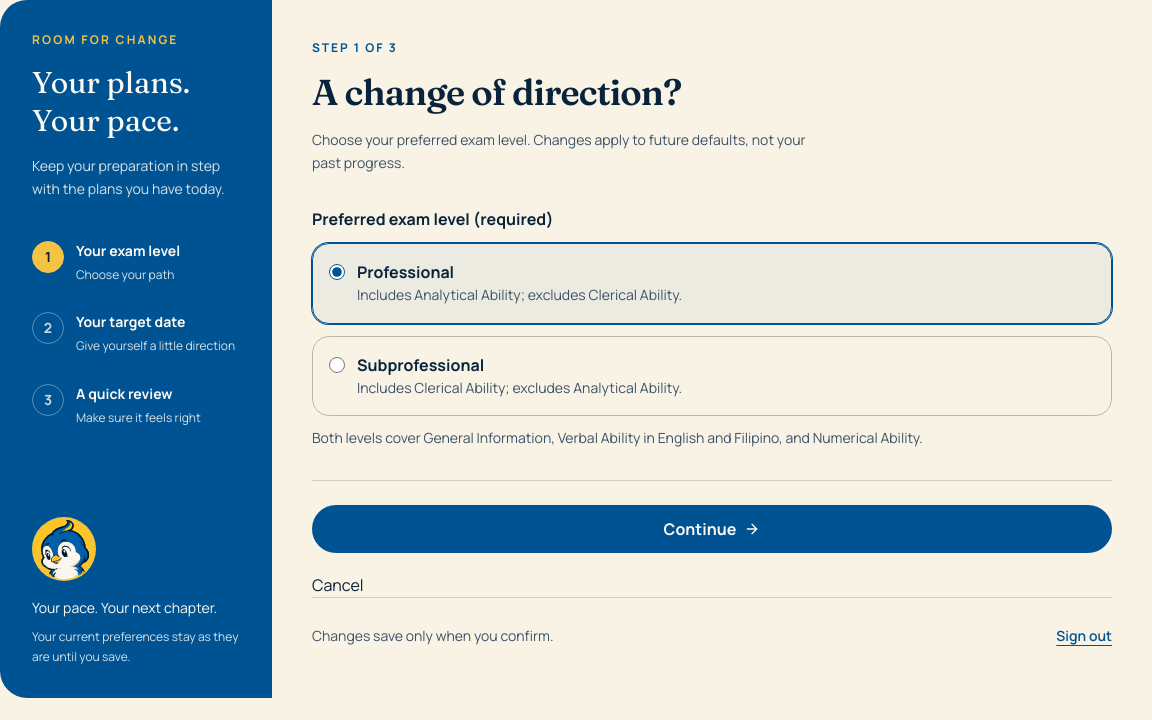
preparation form › discards an editing draft on Cancel even if Next retains the hidden route
Click the 2nd radio button: (337, 365) [329, 357, 345, 373]
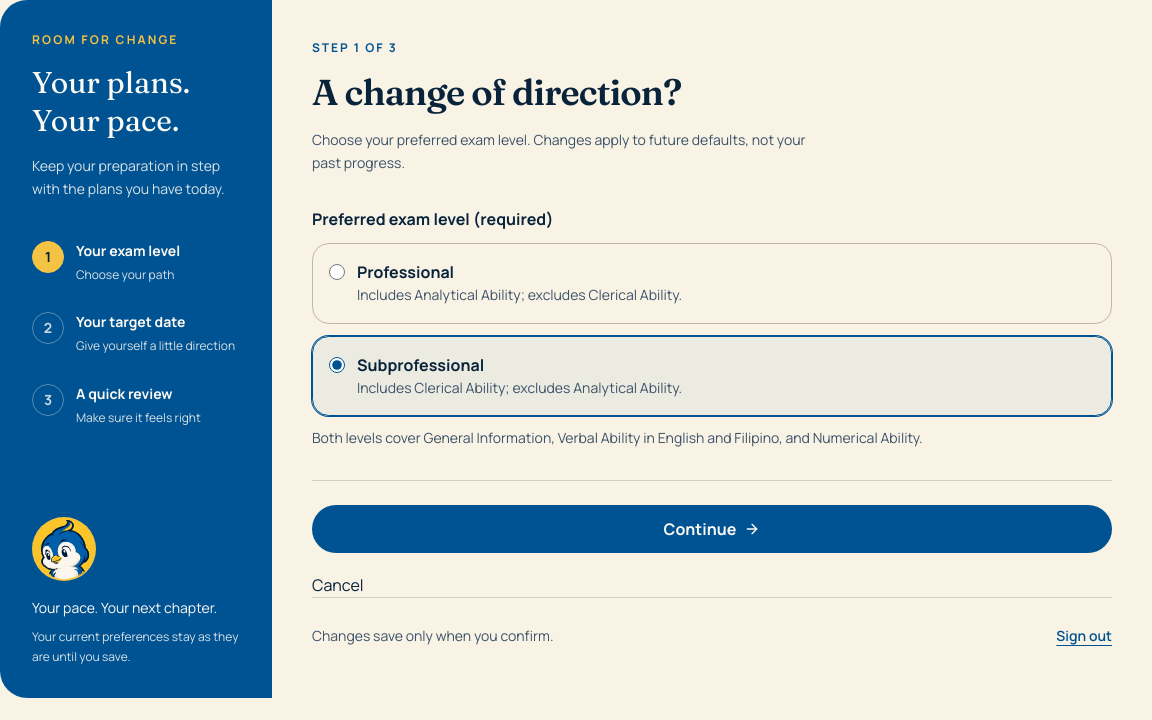
Submit the form
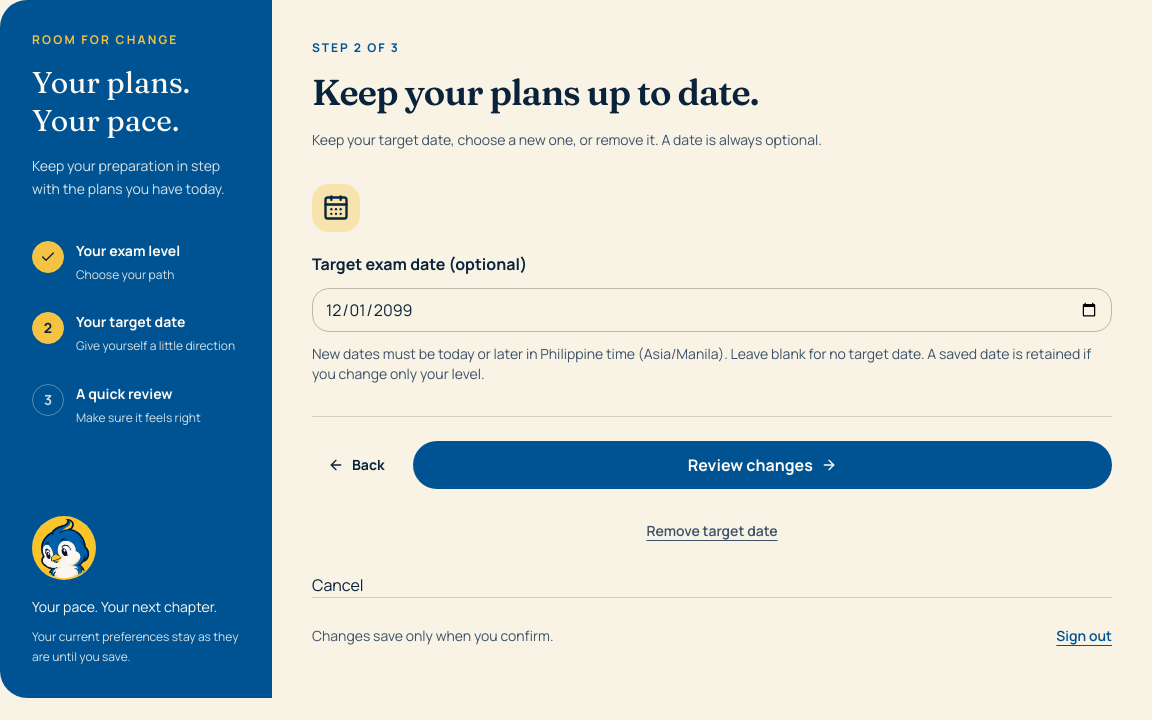
Submit the form
(page scrolled)
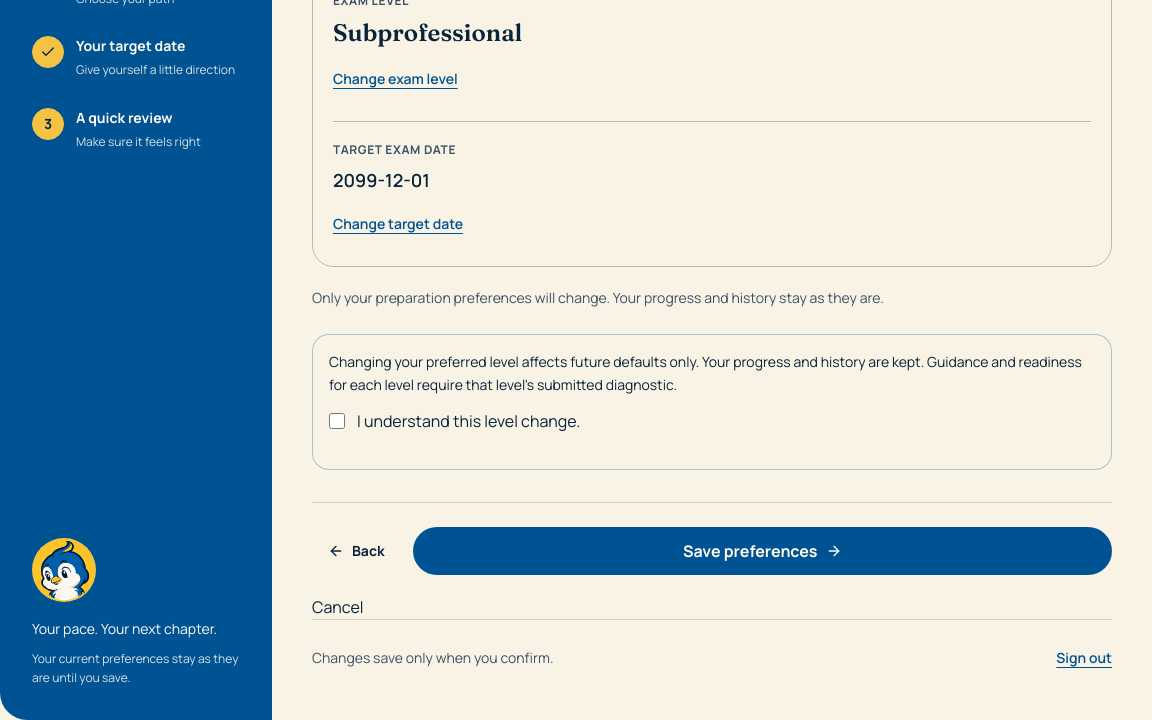
Click the link "Cancel": (338, 606) [312, 596, 364, 618]
(page scrolled)
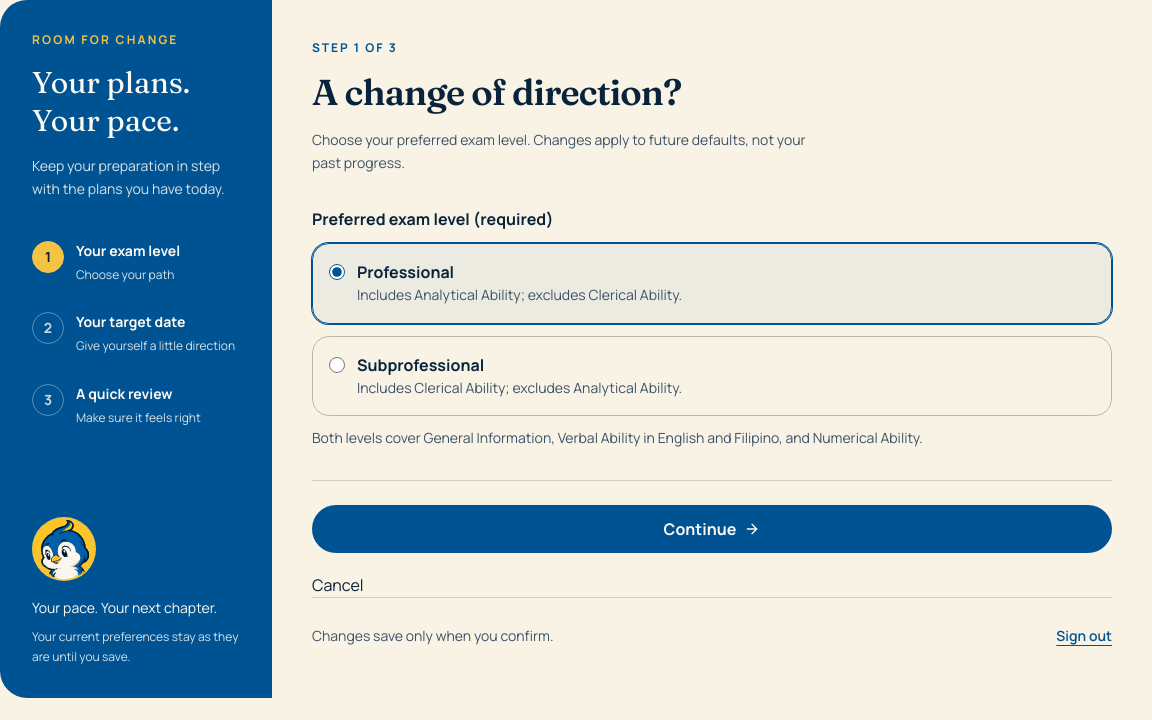
Expected: the 1st radio button is checked, [329, 264, 345, 280]
Submit the form
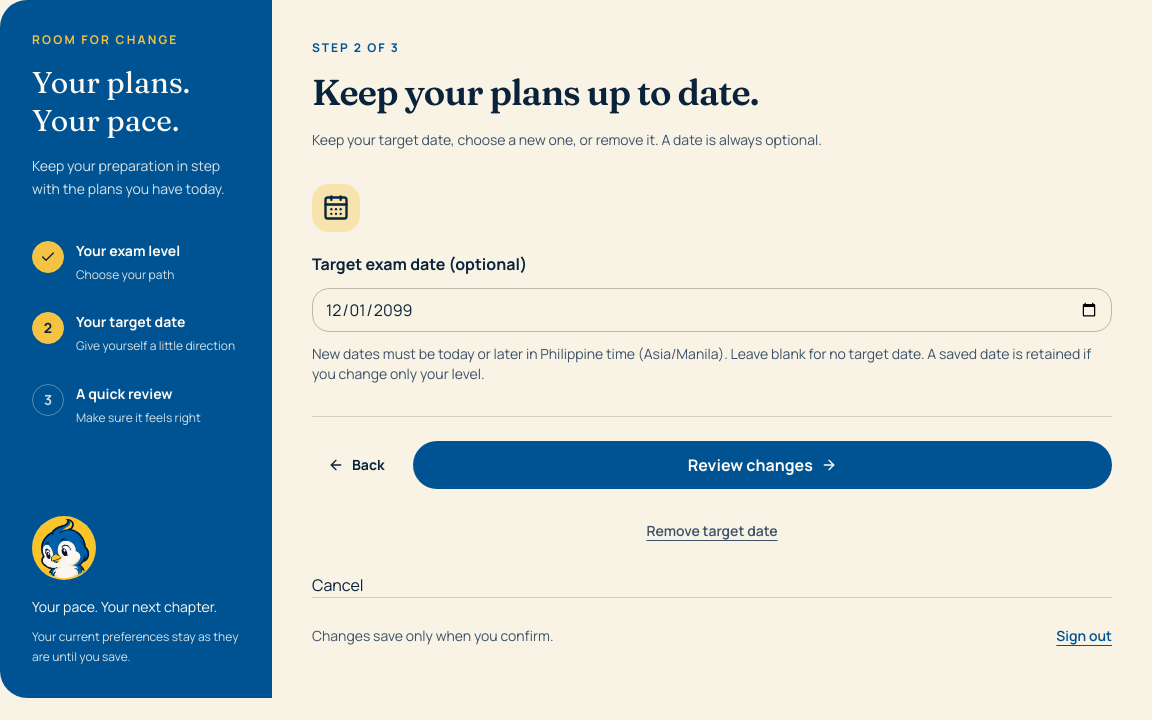
Expected: the date field labelled "Target exam date (optional)" holds "2099-12-01", [312, 288, 1112, 332]
